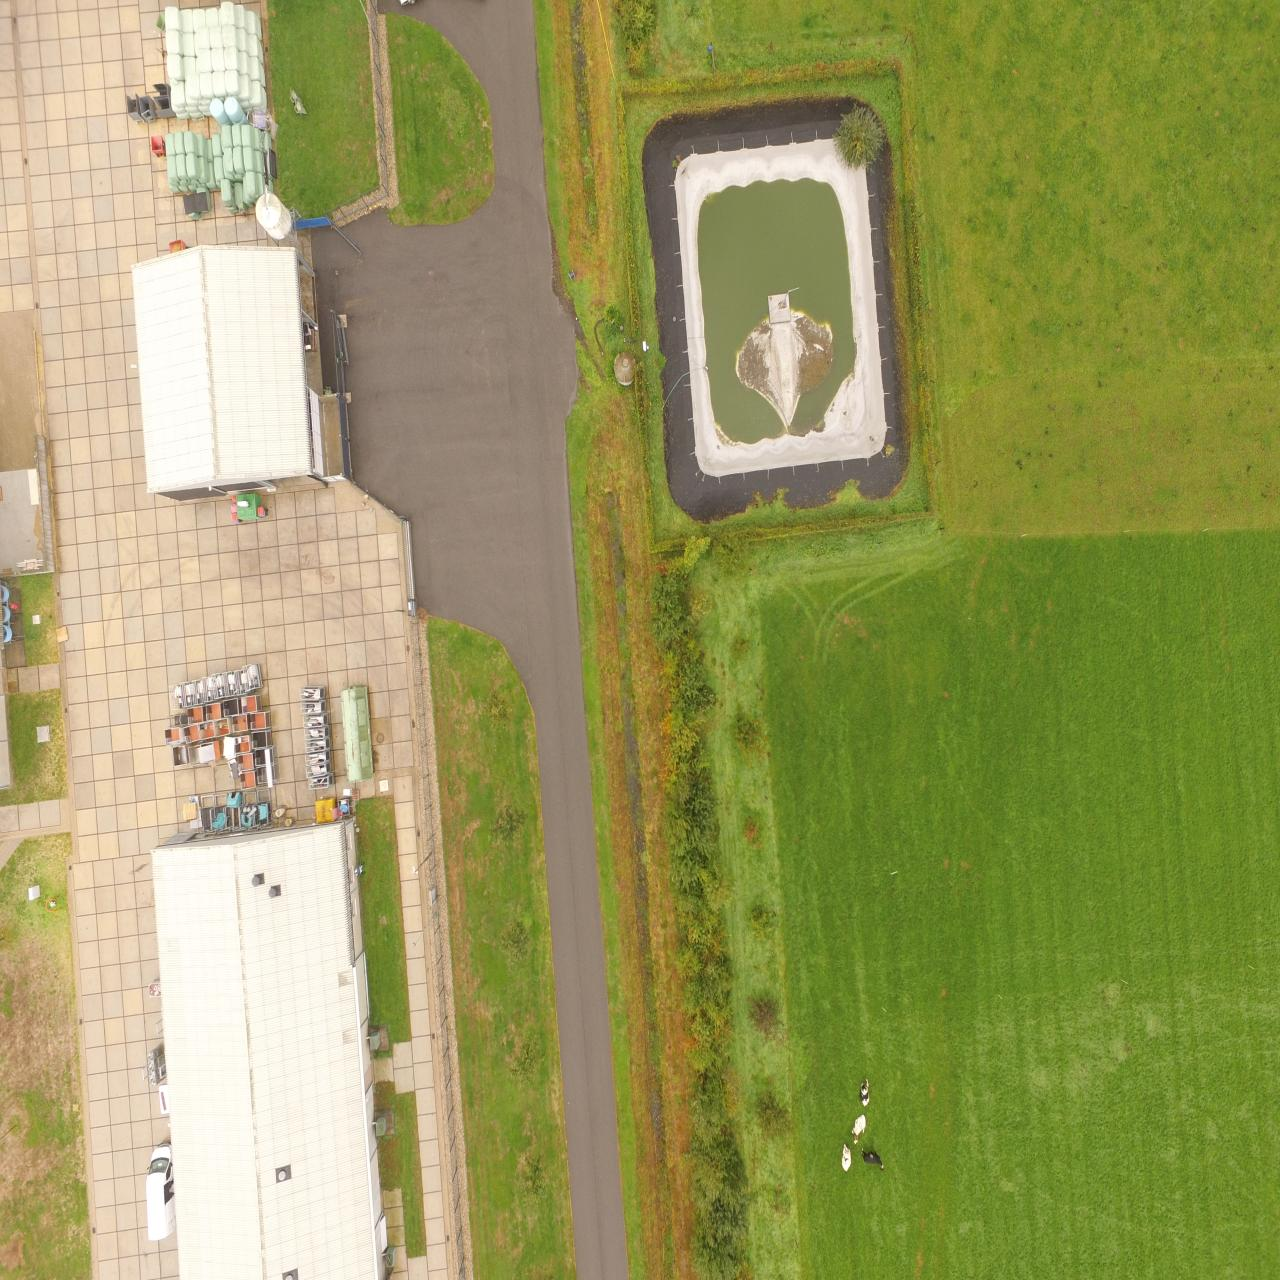cow: (864, 1146, 885, 1173), (859, 1080, 877, 1111), (851, 1114, 866, 1139), (839, 1148, 855, 1171)
